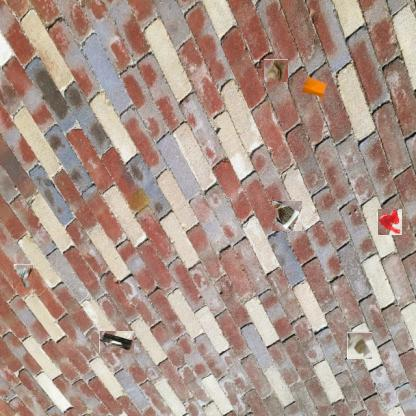dirty: (272, 201, 302, 231), (99, 331, 134, 353), (346, 332, 373, 359), (300, 76, 328, 98), (264, 59, 288, 82), (13, 264, 33, 289)
liquid: (128, 188, 154, 216), (378, 209, 402, 235)
